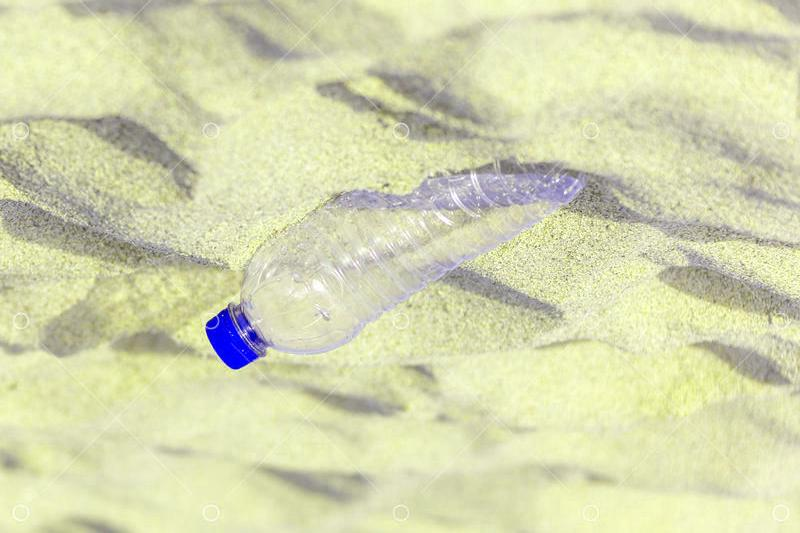Plastic: (203, 161, 591, 369)
